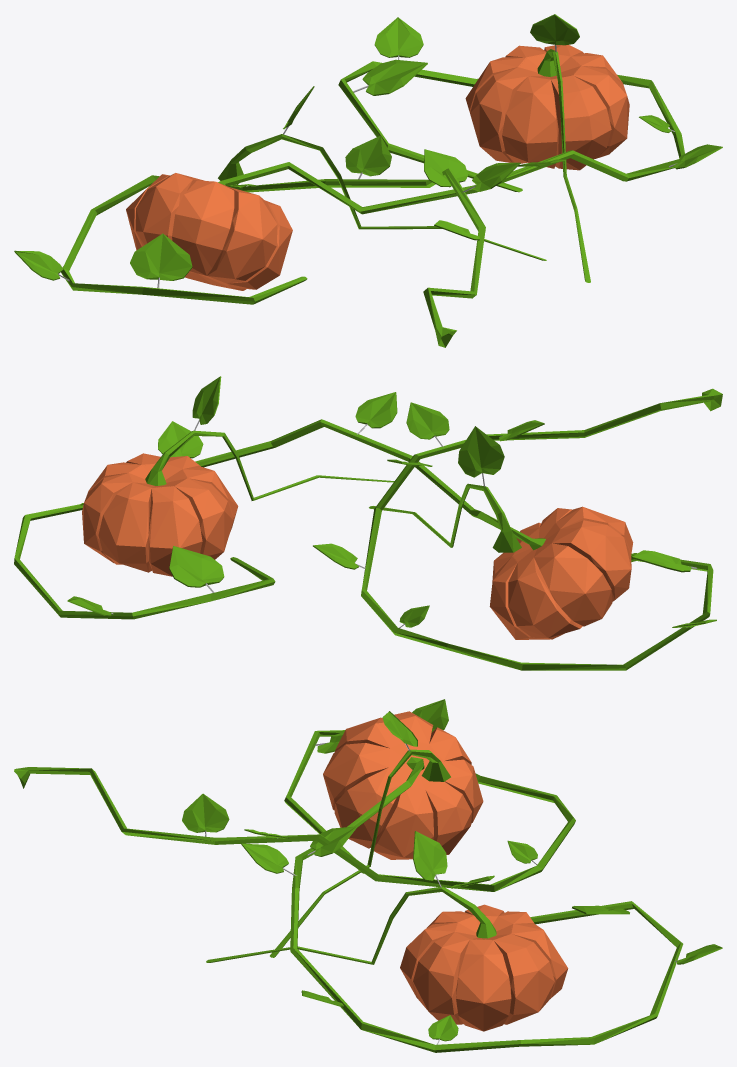
The model's file is 041 Pumpkin_Plant.FBX.
The picture shows the model from 3 angles, top to bottom: view 1: azimuth 30°, elevation 25°; view 2: azimuth 150°, elevation 25°; view 3: azimuth 270°, elevation 25°; orthographic projection. The views are drawn at different scales.
Visible parts, largest first — view 1: pumpkin406; view 2: pumpkin406; view 3: pumpkin406.
Part boxes in pixels (x1,y1,x2,y2): pumpkin406: (14, 14, 722, 347); pumpkin406: (14, 376, 722, 670); pumpkin406: (14, 699, 722, 1052).
Bounding box in the file's own units: 199 × 52.89 × 187.
